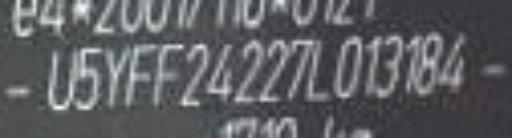letter: (122, 36, 158, 112), (146, 36, 182, 108), (73, 40, 105, 116), (97, 40, 129, 112), (333, 32, 365, 100), (305, 36, 337, 104), (179, 39, 211, 107), (44, 44, 76, 112), (203, 40, 235, 104), (231, 40, 263, 104), (284, 32, 312, 100), (260, 36, 288, 104), (439, 33, 471, 92), (414, 31, 442, 95), (374, 32, 402, 96), (361, 32, 381, 100), (402, 32, 422, 96)
